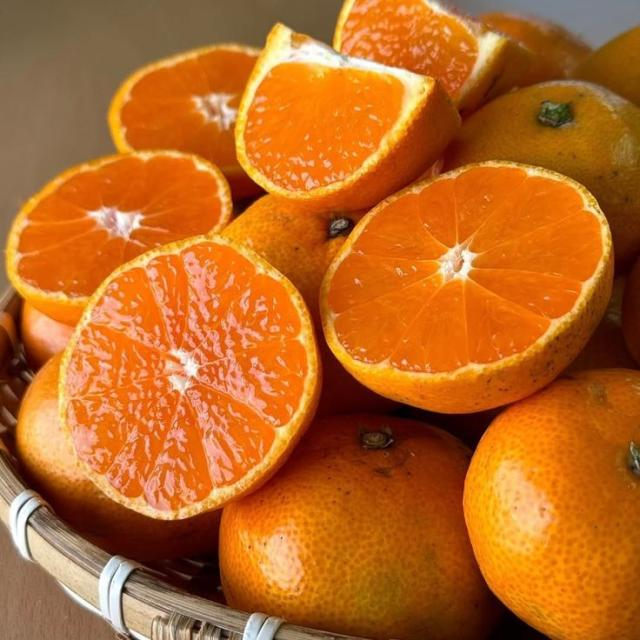orange: (60, 236, 320, 519), (321, 162, 613, 413), (220, 414, 499, 639), (465, 369, 639, 639), (236, 25, 459, 211), (16, 356, 220, 559), (7, 152, 232, 324), (445, 81, 639, 271), (109, 45, 260, 199), (334, 0, 531, 113), (223, 195, 364, 333), (479, 12, 591, 86), (566, 277, 636, 372), (573, 26, 639, 106), (20, 302, 73, 370), (622, 260, 639, 363)
